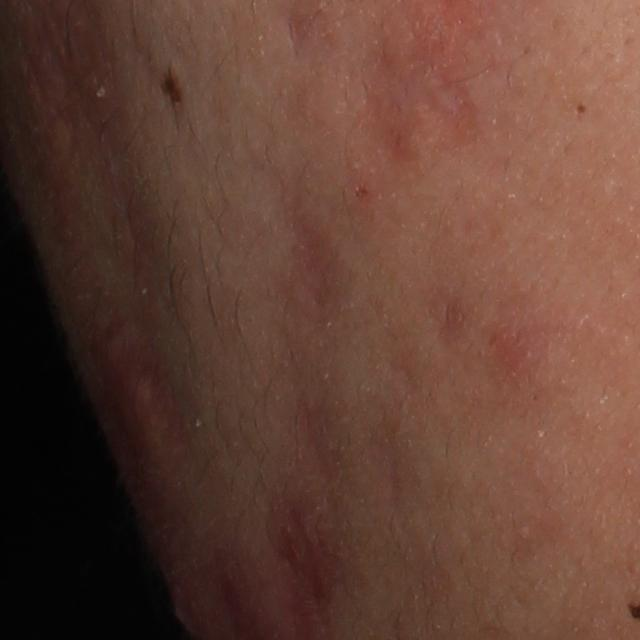comedo: (572, 100, 588, 117)
nevus: (162, 61, 187, 109)
